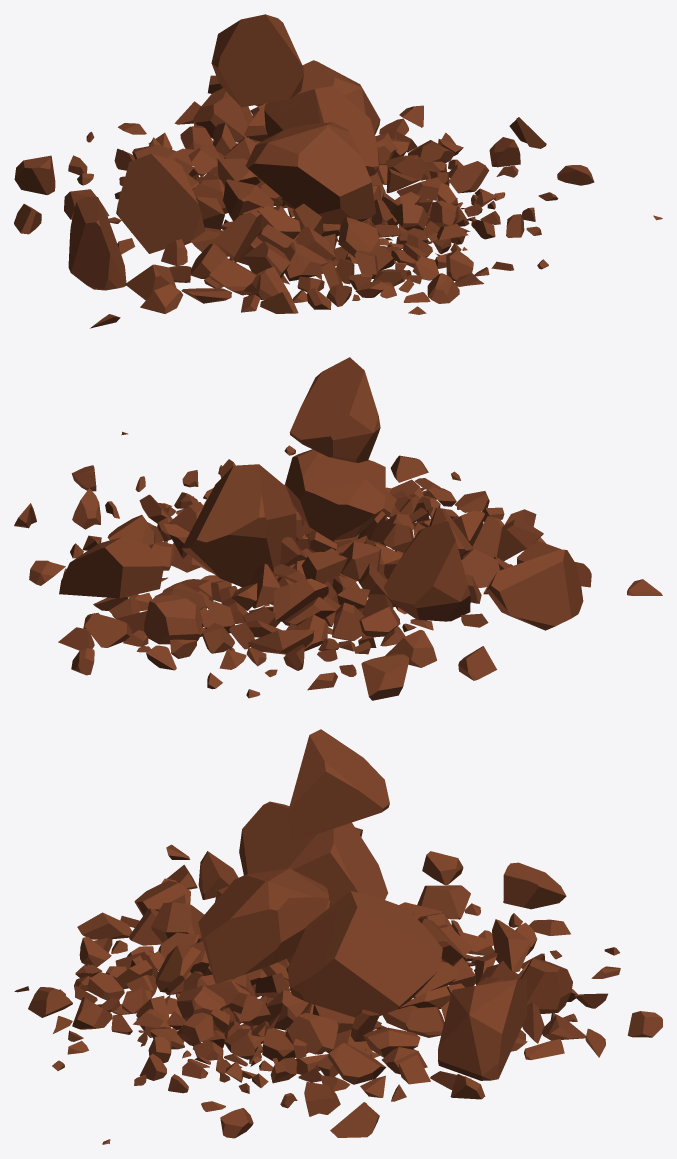
File: rocks.fbx
3 views of the same model, one above another, from view 1: azimuth 30°, elevation 25°; view 2: azimuth 150°, elevation 25°; view 3: azimuth 270°, elevation 25° (orthographic). The views are drawn at different scales.
Parts seen in each view (by area): view 1: Icosphere_cell.004, Icosphere_cell.022, Icosphere_cell.012, Icosphere_cell.003, Icosphere_cell.005, Icosphere_cell.024, Icosphere_cell.002, Icosphere_cell.016, Icosphere_cell.001, Icosphere_cell.015_cell.046, Icosphere_cell.007_cell.026, Icosphere_cell.028_cell.011 (+41 smaller); view 2: Icosphere_cell.004, Icosphere_cell.012, Icosphere_cell.002, Icosphere_cell.022, Icosphere_cell.024, Icosphere_cell.025, Icosphere_cell.005, Icosphere_cell.016, Icosphere_cell.015_cell.046, Icosphere_cell.009_cell.021, Icosphere_cell.003, Icosphere_cell.015_cell.027 (+27 smaller); view 3: Icosphere_cell.002, Icosphere_cell.022, Icosphere_cell.004, Icosphere_cell.001, Icosphere_cell.024, Icosphere_cell.012, Icosphere_cell.005, Icosphere_cell.025, Icosphere_cell.016, Icosphere_cell.009_cell.021, Icosphere_cell.015_cell.005, Icosphere_cell.011_cell.028 (+35 smaller).
Part boxes in pixels (x1=…): Icosphere_cell.004: x1=211, y1=14, x2=303, y2=107; Icosphere_cell.022: x1=245, y1=122, x2=375, y2=218; Icosphere_cell.012: x1=116, y1=153, x2=204, y2=253; Icosphere_cell.003: x1=248, y1=149, x2=375, y2=224; Icosphere_cell.005: x1=70, y1=200, x2=126, y2=290; Icosphere_cell.024: x1=264, y1=89, x2=377, y2=175; Icosphere_cell.002: x1=264, y1=86, x2=379, y2=176; Icosphere_cell.016: x1=68, y1=197, x2=125, y2=290; Icosphere_cell.001: x1=298, y1=60, x2=380, y2=134; Icosphere_cell.015_cell.046: x1=193, y1=88, x2=252, y2=142; Icosphere_cell.007_cell.026: x1=215, y1=211, x2=260, y2=262; Icosphere_cell.028_cell.011: x1=338, y1=217, x2=379, y2=257; Icosphere_cell.004: x1=289, y1=357, x2=380, y2=462; Icosphere_cell.012: x1=383, y1=520, x2=470, y2=621; Icosphere_cell.002: x1=181, y1=471, x2=296, y2=583; Icosphere_cell.022: x1=285, y1=449, x2=385, y2=540; Icosphere_cell.024: x1=192, y1=464, x2=294, y2=587; Icosphere_cell.025: x1=59, y1=537, x2=163, y2=598; Icosphere_cell.005: x1=488, y1=549, x2=582, y2=624; Icosphere_cell.016: x1=486, y1=549, x2=583, y2=630; Icosphere_cell.015_cell.046: x1=144, y1=594, x2=202, y2=644; Icosphere_cell.009_cell.021: x1=361, y1=653, x2=408, y2=700; Icosphere_cell.003: x1=285, y1=457, x2=382, y2=540; Icosphere_cell.015_cell.027: x1=274, y1=578, x2=328, y2=620; Icosphere_cell.002: x1=288, y1=891, x2=442, y2=1011; Icosphere_cell.022: x1=198, y1=868, x2=328, y2=983; Icosphere_cell.004: x1=287, y1=729, x2=389, y2=841; Icosphere_cell.001: x1=438, y1=978, x2=527, y2=1080; Icosphere_cell.024: x1=292, y1=910, x2=434, y2=1017; Icosphere_cell.012: x1=288, y1=822, x2=387, y2=905; Icosphere_cell.005: x1=239, y1=801, x2=362, y2=875; Icosphere_cell.025: x1=438, y1=979, x2=526, y2=1080; Icosphere_cell.016: x1=240, y1=801, x2=362, y2=873; Icosphere_cell.009_cell.021: x1=503, y1=862, x2=566, y2=909; Icosphere_cell.015_cell.005: x1=521, y1=958, x2=572, y2=1013; Icosphere_cell.011_cell.028: x1=285, y1=1012, x2=338, y2=1054.
Size of the model in its own units: 3360 by 1257 by 3069.
